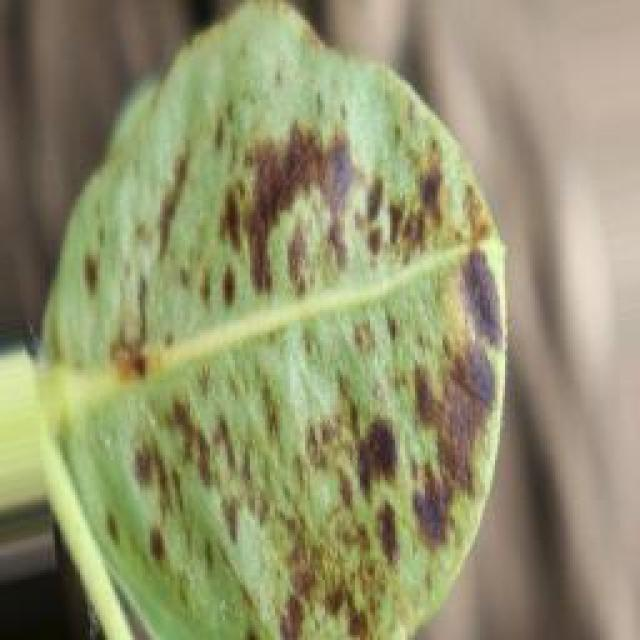Whitefly: (59, 90, 522, 638)
